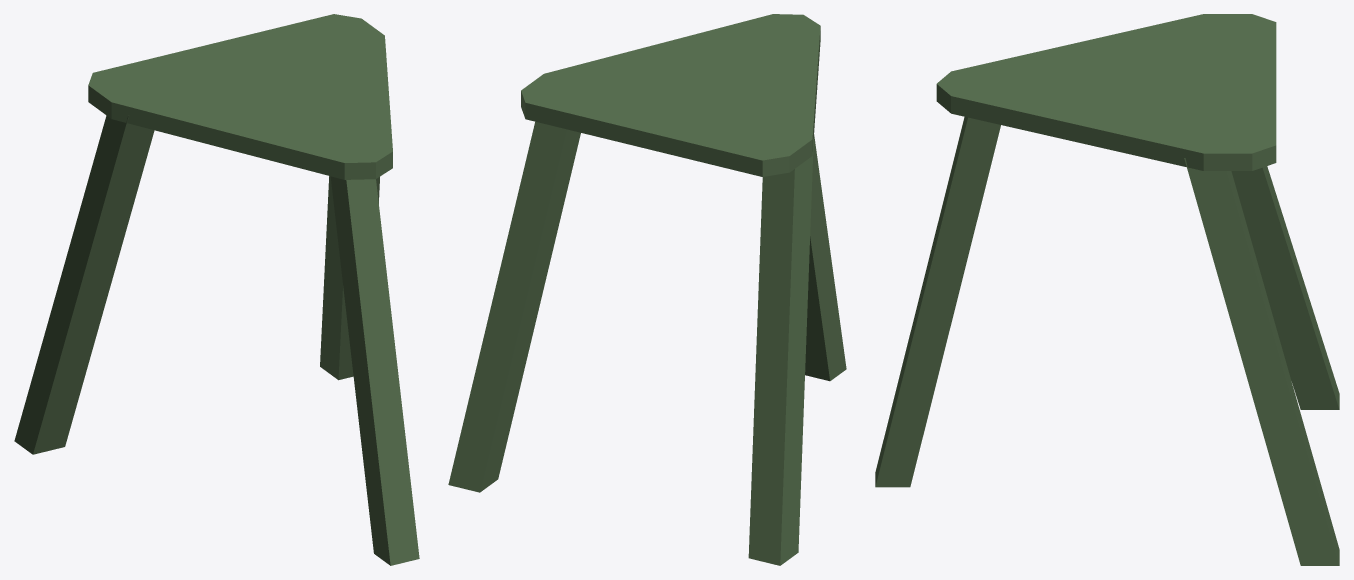
3 views of the same model, side by side, from view 1: azimuth 30°, elevation 25°; view 2: azimuth 150°, elevation 25°; view 3: azimuth 270°, elevation 25° (orthographic). The views are drawn at different scales.
Parts seen in each view (by area): view 1: Legs, Seat; view 2: Legs, Seat; view 3: Legs, Seat.
Boxes of the visible parts, left/top/right/bottom form: Legs: left=14, top=115, right=419, bottom=565; Seat: left=88, top=14, right=392, bottom=179; Legs: left=448, top=121, right=846, bottom=565; Seat: left=521, top=14, right=820, bottom=176; Legs: left=875, top=117, right=1339, bottom=565; Seat: left=936, top=14, right=1276, bottom=170.
Bounding box in the file's own units: 0.42 × 0.45 × 0.478.
